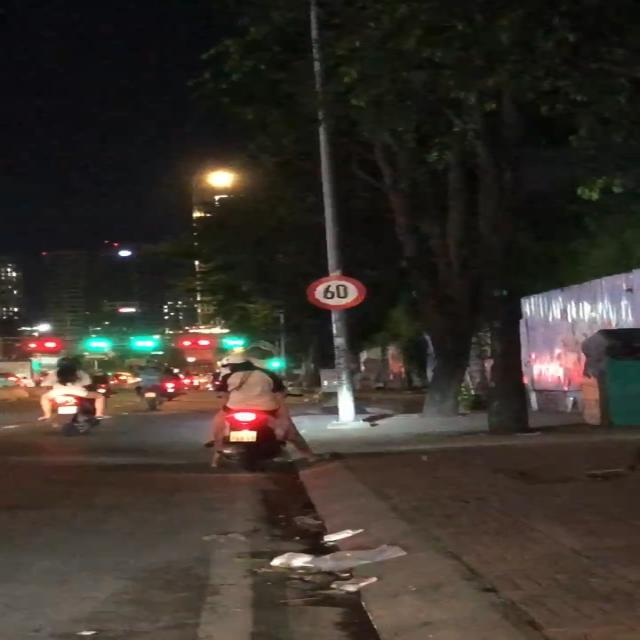Bien bao toc do toi da cho phep: (302, 273, 370, 312)
